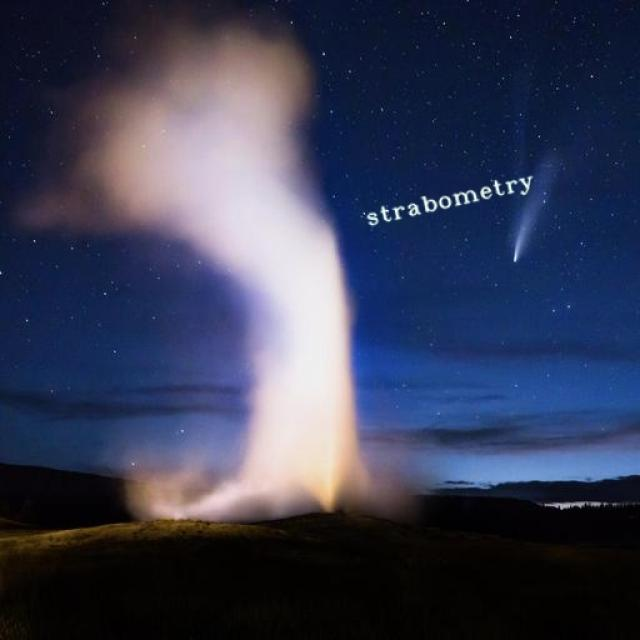watermark: (360, 168, 536, 229)
